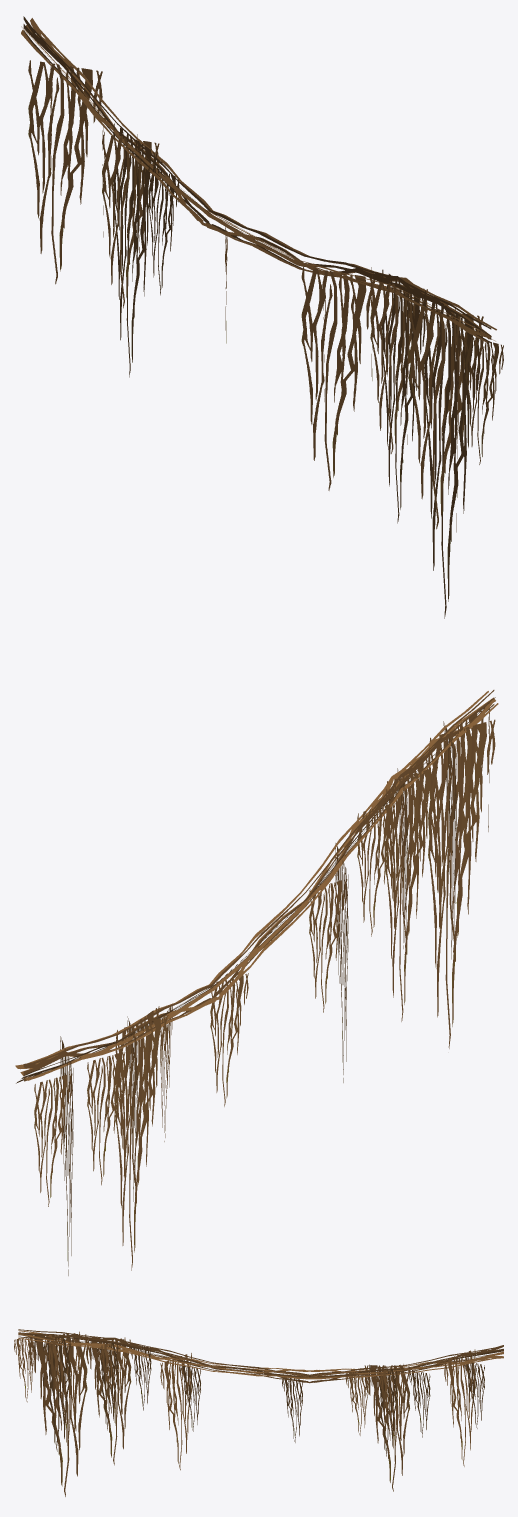
The model's file is Ivy 2.FBX.
The picture shows the model from 3 angles, top to bottom: view 1: azimuth 30°, elevation 25°; view 2: azimuth 150°, elevation 25°; view 3: azimuth 270°, elevation 25°; orthographic projection. The views are drawn at different scales.
Parts seen in each view (by area): view 1: Plane002; view 2: Plane002; view 3: Plane002.
Part boxes in pixels (bbox=[...]): Plane002: bbox=[21, 16, 503, 618]; Plane002: bbox=[15, 690, 498, 1275]; Plane002: bbox=[14, 1329, 503, 1496].
Size of the model in its own units: 3.32 by 24.38 by 61.36.
